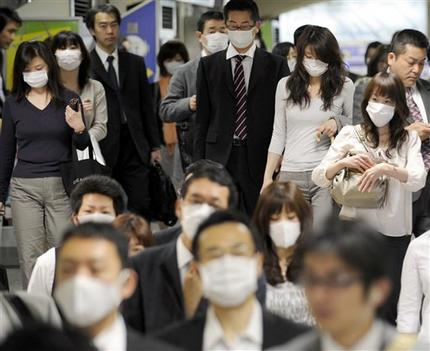mask: (366, 100, 397, 129), (227, 28, 255, 48), (303, 58, 330, 77), (58, 50, 79, 68), (24, 72, 47, 86)
